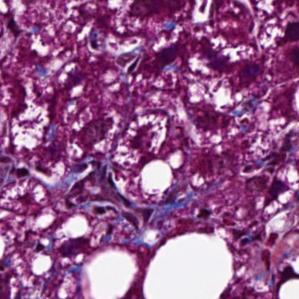inflammation: (84, 173, 158, 230)
